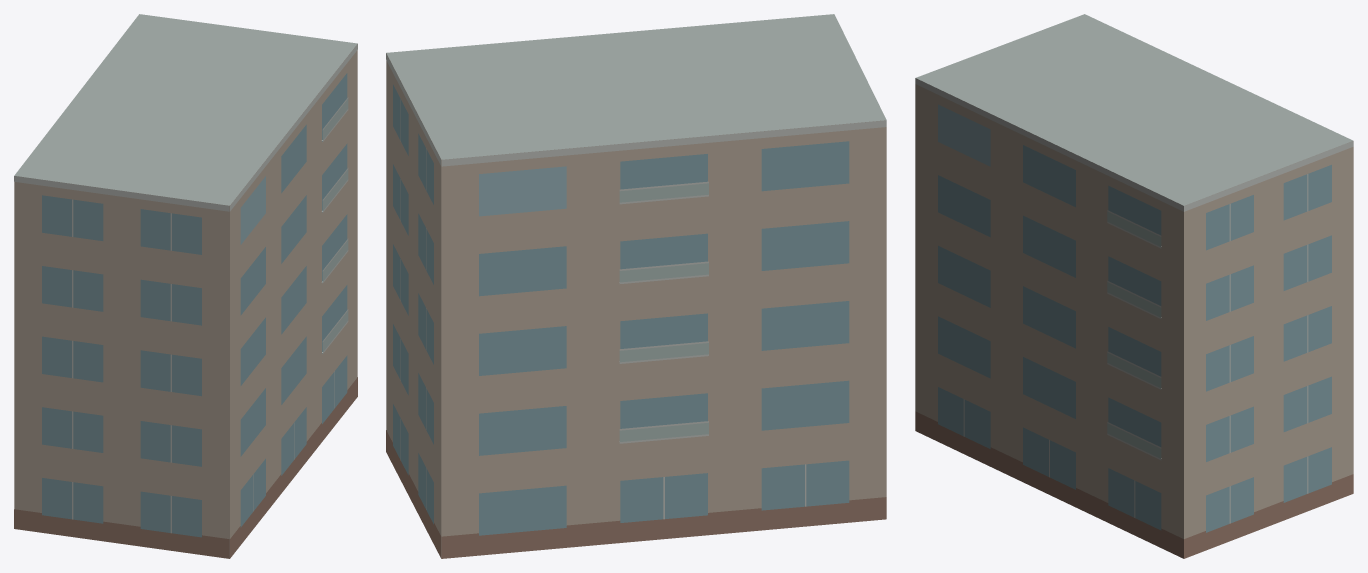
The model's file is survey-upis-32993466.glb.
The picture shows the model from 3 angles, left to right: view 1: azimuth 30°, elevation 25°; view 2: azimuth 150°, elevation 25°; view 3: azimuth 270°, elevation 25°; orthographic projection. The views are drawn at different scales.
Visible parts, largest first — view 1: survey-upis-32993466.tmp; view 2: survey-upis-32993466.tmp; view 3: survey-upis-32993466.tmp.
Boxes of the visible parts, bbox=[...] form: survey-upis-32993466.tmp: bbox=[14, 14, 357, 558]; survey-upis-32993466.tmp: bbox=[386, 14, 886, 558]; survey-upis-32993466.tmp: bbox=[915, 14, 1353, 558].
Bounding box in the file's own units: 16.68 × 14.3 × 16.09.
